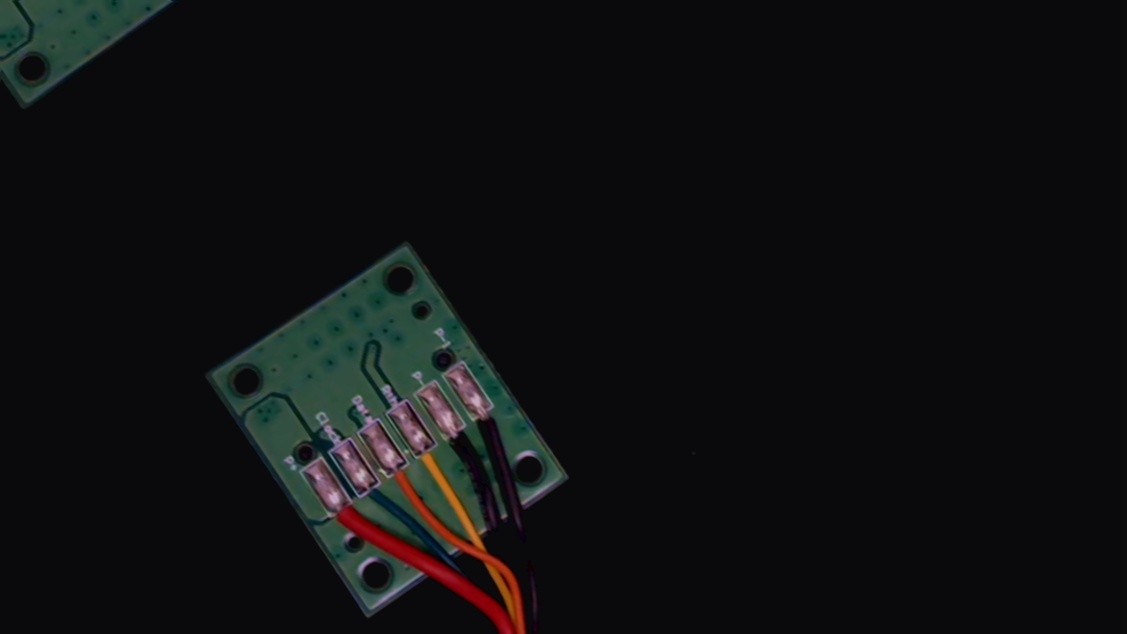Black: (433, 414, 485, 473)
Black1: (463, 394, 514, 451)
Green: (350, 469, 402, 528)
Orange: (376, 450, 430, 511)
Red: (322, 490, 375, 551)
Yellow: (404, 431, 461, 497)
